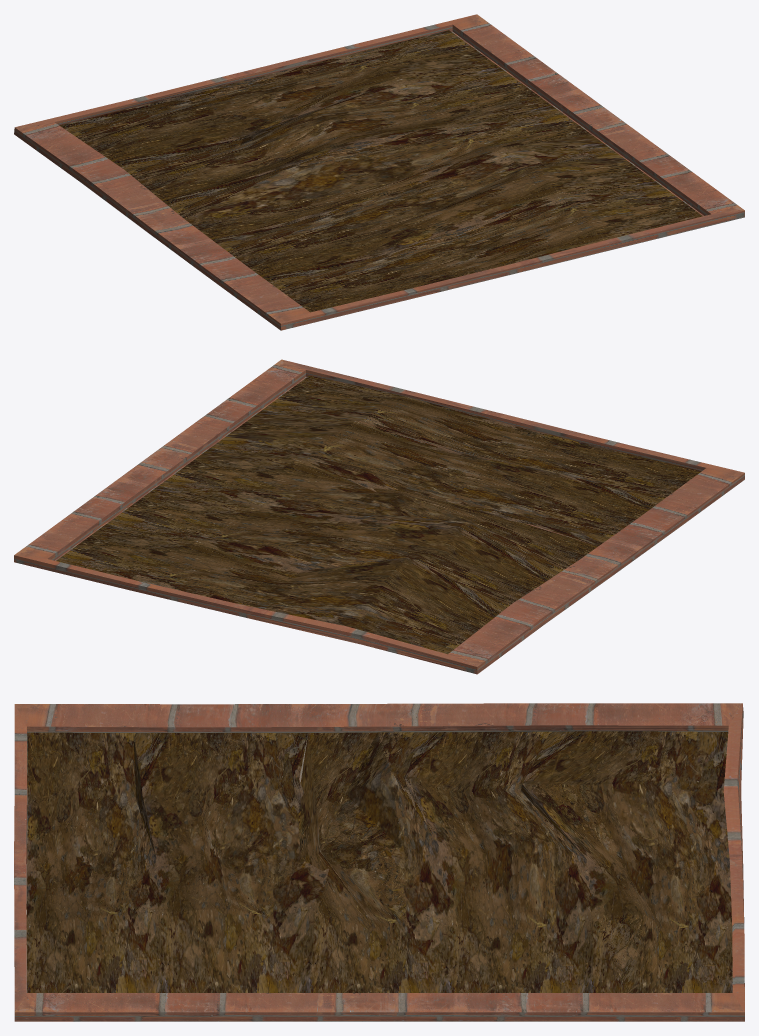
File: finalsquareplanter.fbx
3 renders of one model, top to bottom at view 1: azimuth 30°, elevation 25°; view 2: azimuth 150°, elevation 25°; view 3: azimuth 270°, elevation 25°, orthographic. The views are drawn at different scales.
Visible parts, largest first — view 1: plantpot; view 2: plantpot; view 3: plantpot.
Part boxes in pixels (x1,y1,x2,y2): plantpot: (14, 14, 744, 330); plantpot: (14, 359, 744, 674); plantpot: (14, 703, 744, 1021).
Bounding box in the file's own units: 220 × 11.54 × 220.
